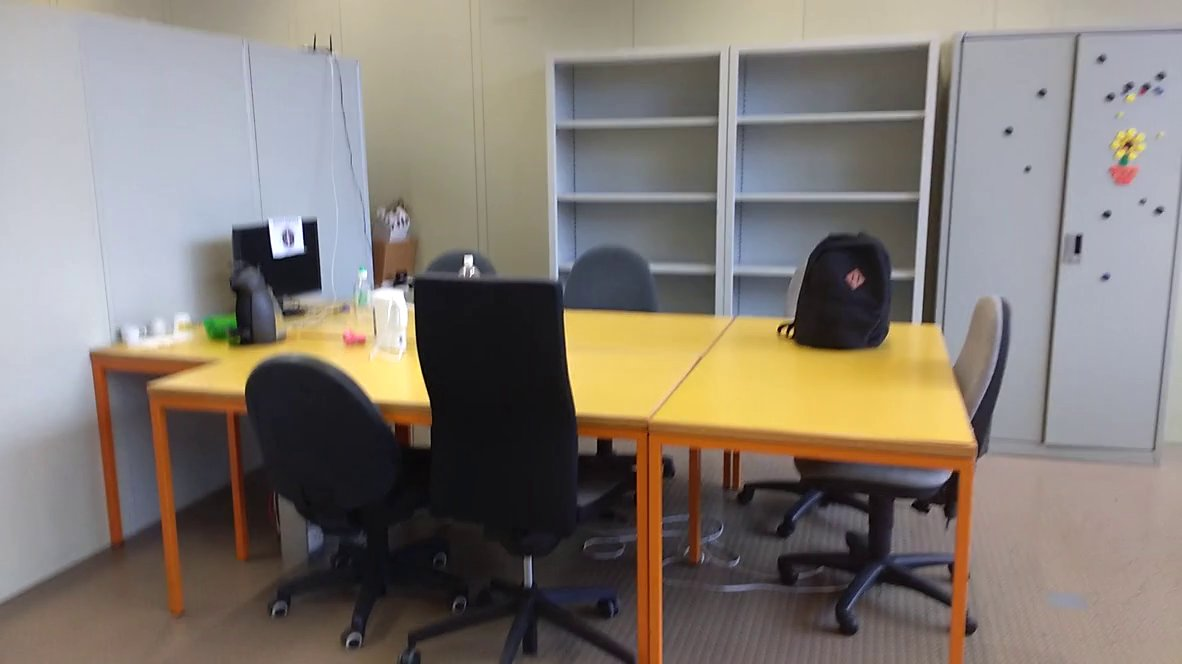bag: (773, 228, 901, 358)
chair: (390, 255, 655, 664), (205, 335, 482, 647), (802, 293, 1036, 649), (556, 235, 671, 321)
